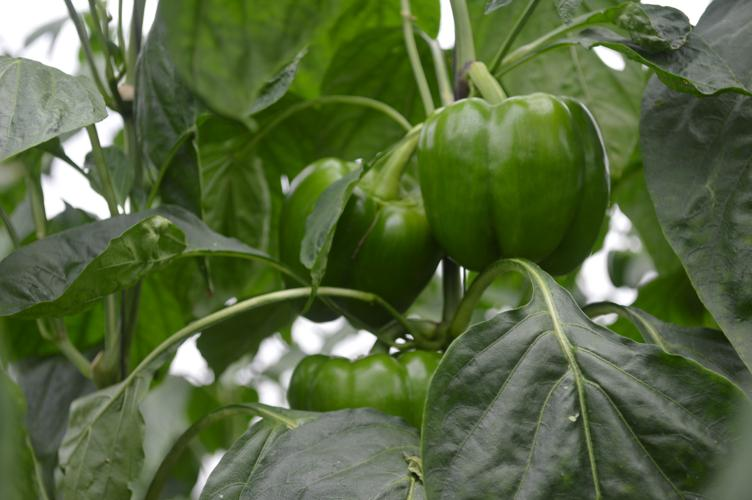BellPepper: (417, 93, 608, 275), (279, 160, 432, 322), (288, 351, 435, 439)
